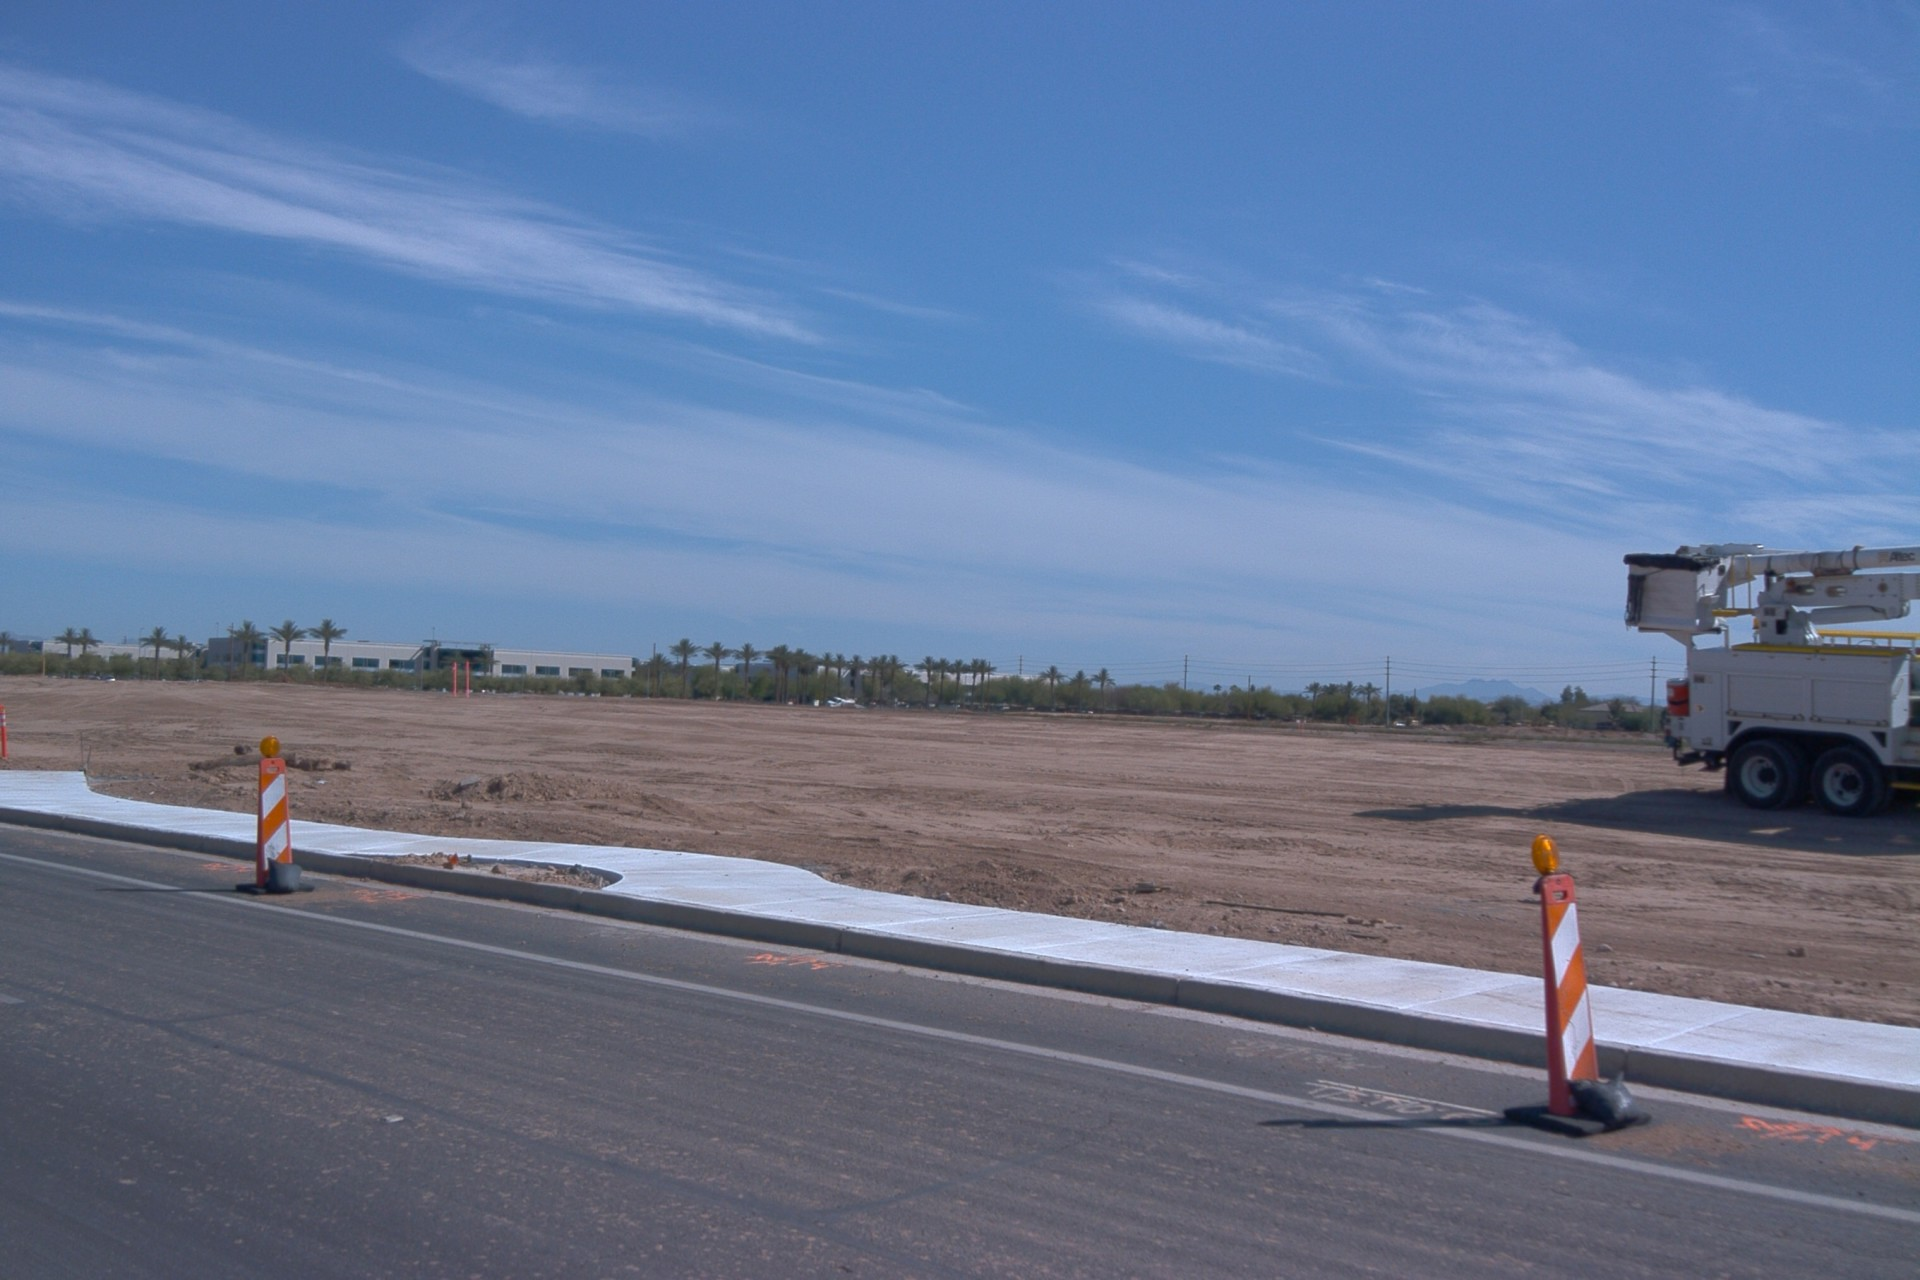TYPE_VEHICLE: (1622, 543, 1920, 820)
